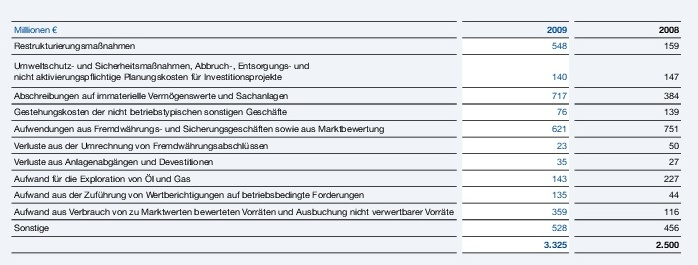table: (0, 0, 698, 265)
